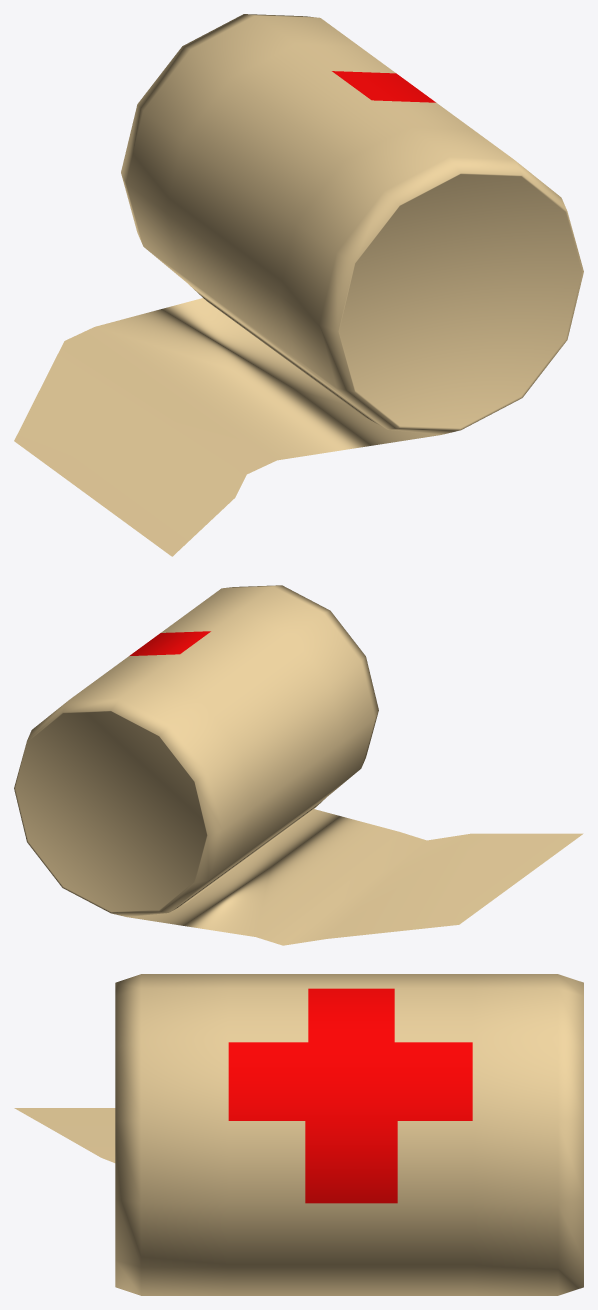
File: Bandage.glb
3 renders of one model, top to bottom at view 1: azimuth 30°, elevation 25°; view 2: azimuth 150°, elevation 25°; view 3: azimuth 270°, elevation 25°, orthographic. The views are drawn at different scales.
Parts seen in each view (by area): view 1: Bandage; view 2: Bandage; view 3: Bandage.
Boxes of the visible parts, bbox=[...] form: Bandage: bbox=[14, 14, 583, 556]; Bandage: bbox=[14, 585, 583, 945]; Bandage: bbox=[14, 974, 583, 1295].
Bounding box in the file's own units: 0.3512 × 0.198 × 0.3454.
